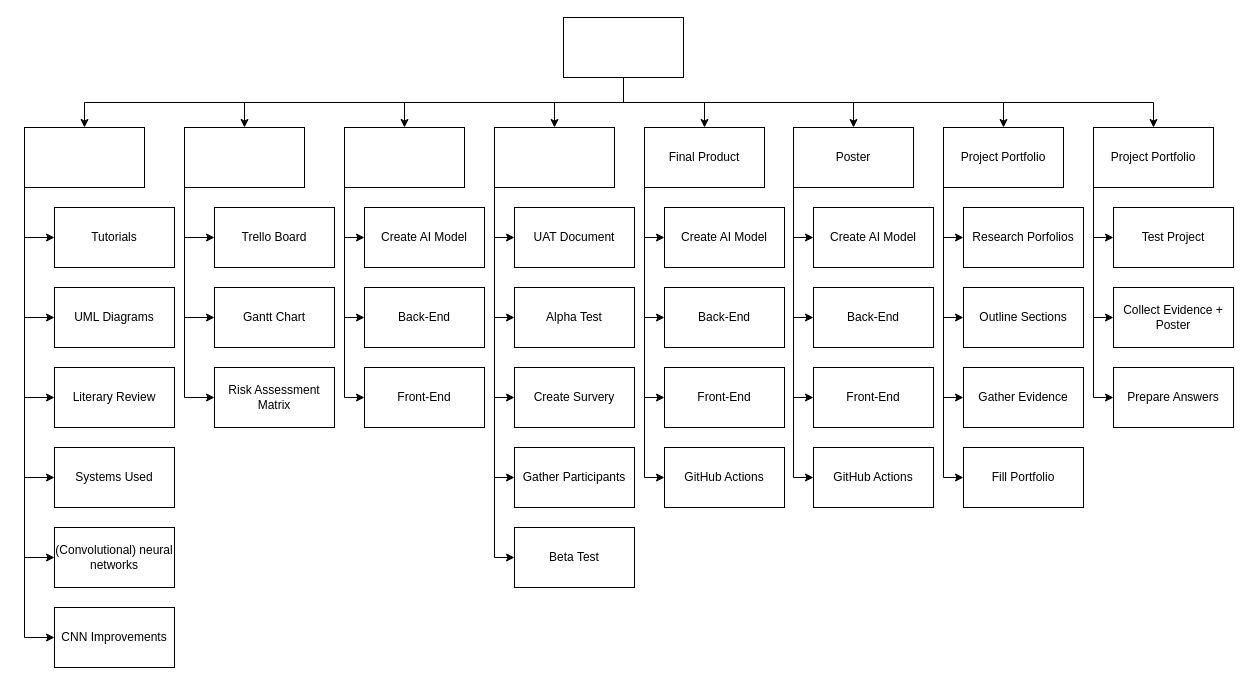
Some shapes in this 1251 by 685 pixel diagram are drawn without their labels. The box of each missing label's shape, as (x1, y1, x2, y2) in pixels:
KANO: (562, 16, 684, 78)
Planning: (184, 126, 304, 188)
Prototype/MVP: (344, 126, 464, 188)
Research: (24, 126, 144, 188)
Testing: (494, 126, 614, 188)
